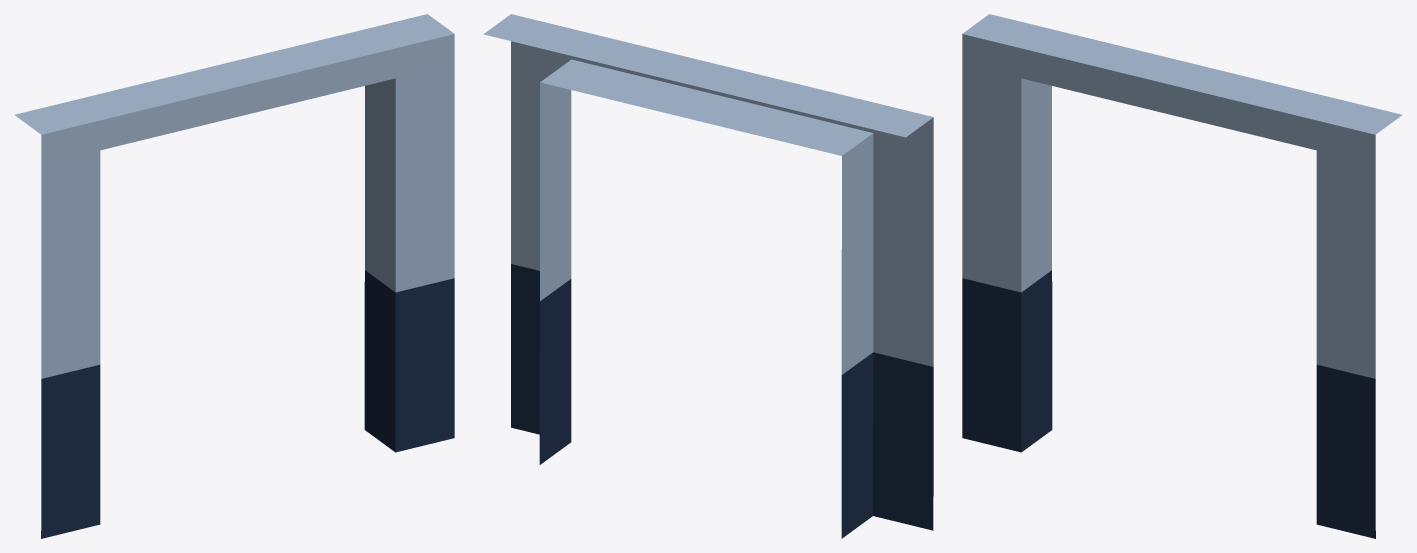
File: Frame.fbx
3 renders of one model, left to right at view 1: azimuth 30°, elevation 25°; view 2: azimuth 150°, elevation 25°; view 3: azimuth 330°, elevation 25°, orthographic. The views are drawn at different scales.
Parts seen in each view (by area): view 1: GarageDoorWall; view 2: GarageDoorWall; view 3: GarageDoorWall.
Part boxes in pixels (left/top/right/bottom): GarageDoorWall: left=14, top=14, right=454, bottom=538; GarageDoorWall: left=483, top=14, right=933, bottom=538; GarageDoorWall: left=962, top=14, right=1402, bottom=538.
Size of the model in its own units: 350 by 327 by 45.55.
